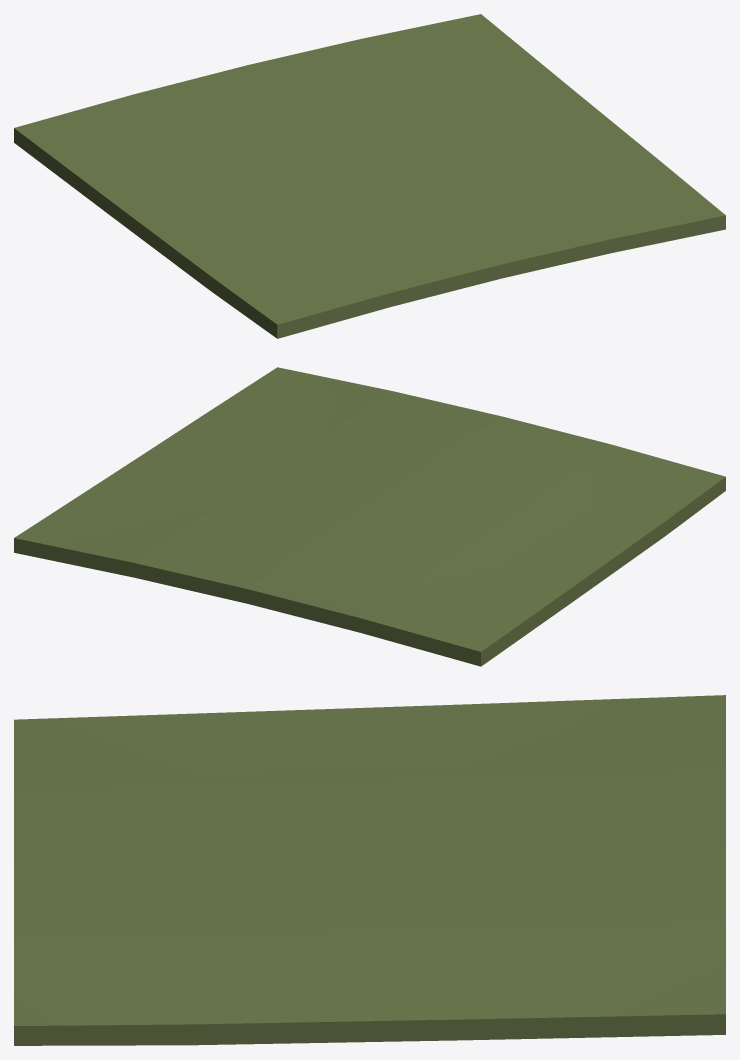
File: ridgeback_4x4_bonnet.glb
The picture shows the model from 3 angles, top to bottom: view 1: azimuth 30°, elevation 25°; view 2: azimuth 150°, elevation 25°; view 3: azimuth 270°, elevation 25°; orthographic projection. The views are drawn at different scales.
Visible parts, largest first — view 1: ridgeback_4x4_bonnet; view 2: ridgeback_4x4_bonnet; view 3: ridgeback_4x4_bonnet.
Boxes of the visible parts, x1,y1,x2,y2 form: ridgeback_4x4_bonnet: (14,14,725,338); ridgeback_4x4_bonnet: (14,367,725,666); ridgeback_4x4_bonnet: (14,695,725,1045).
Bounding box in the file's own units: 1.48 × 0.1001 × 1.4.
